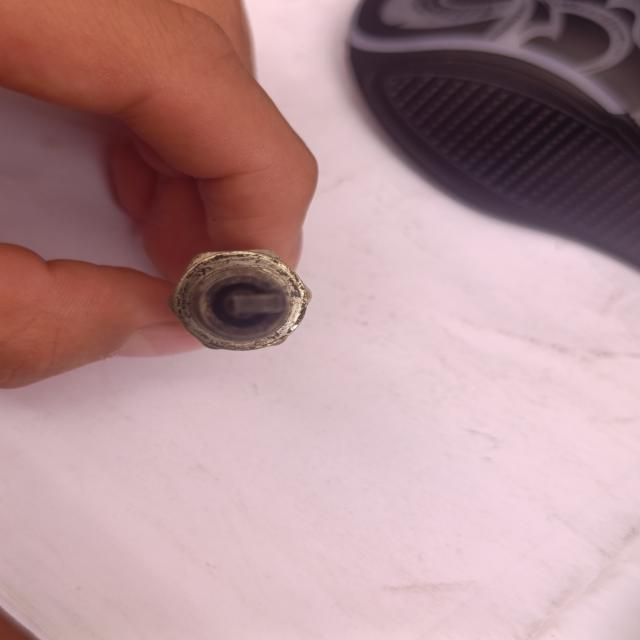bujia: (168, 250, 311, 351)
